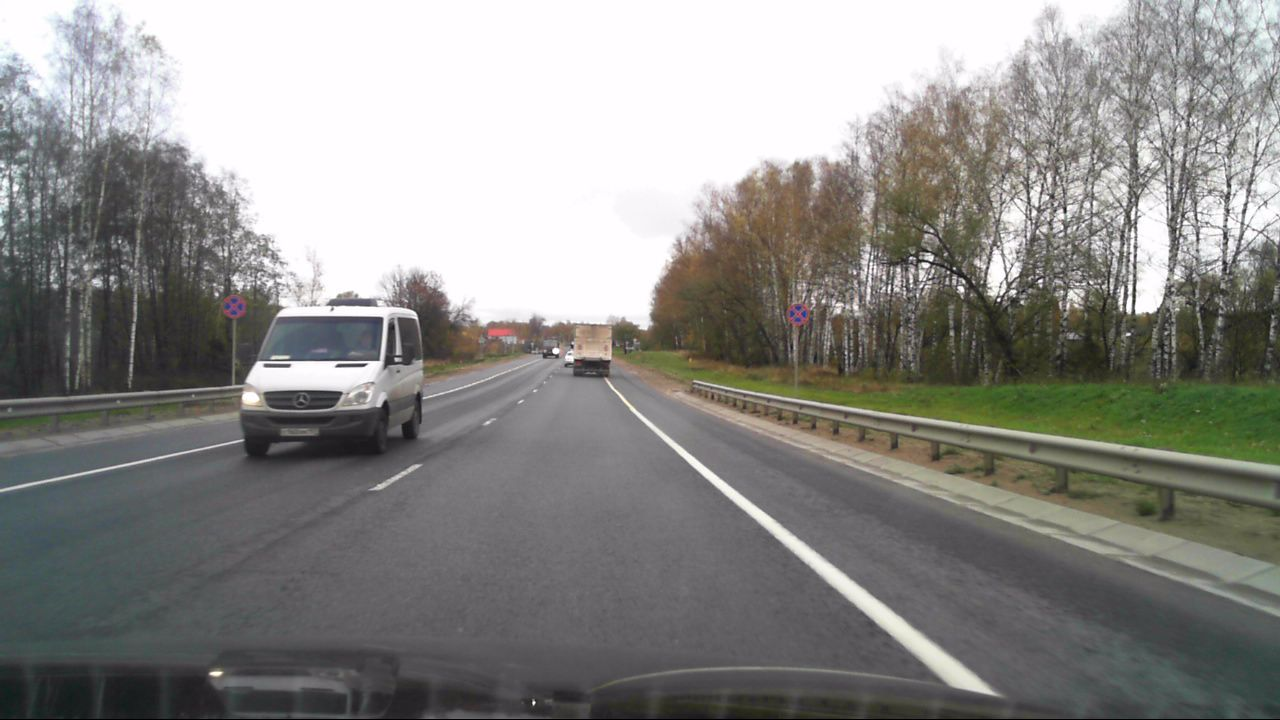No Parking: (786, 303, 809, 326)
